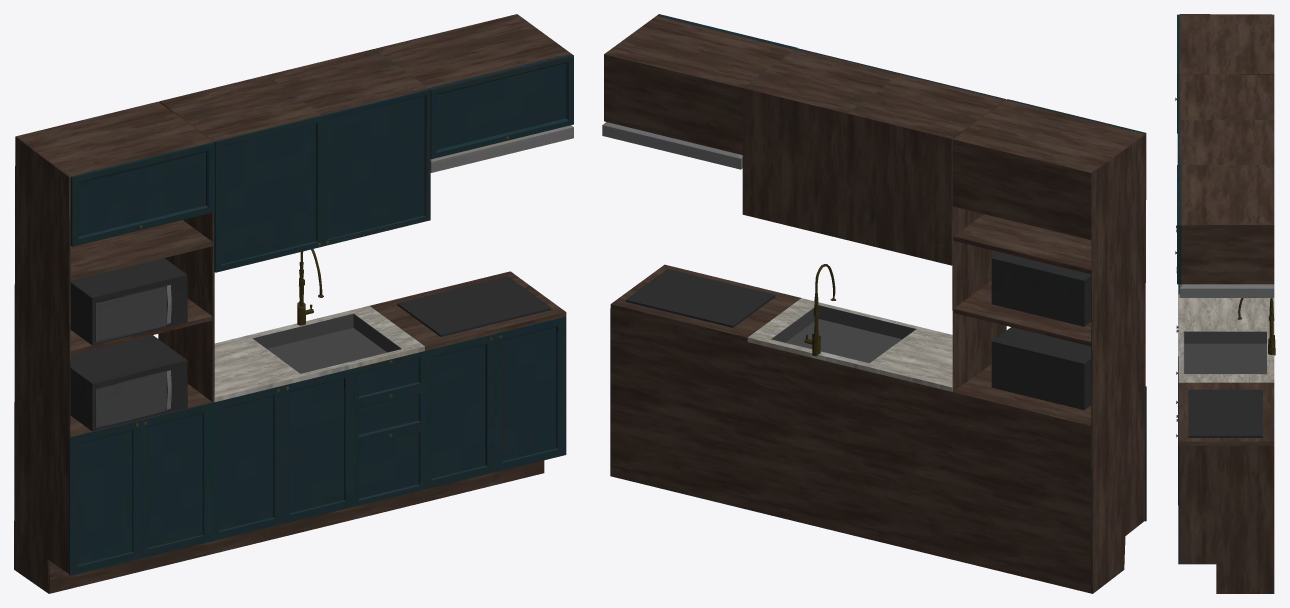
File: armario.glb
3 views of the same model, side by side, from view 1: azimuth 30°, elevation 25°; view 2: azimuth 150°, elevation 25°; view 3: azimuth 270°, elevation 25° (orthographic). The views are drawn at different scales.
Parts seen in each view (by area): view 1: armario-planejado; view 2: armario-planejado; view 3: armario-planejado.
Boxes of the visible parts, x1,y1,x2,y2 form: armario-planejado: (14, 14, 573, 593); armario-planejado: (602, 14, 1146, 593); armario-planejado: (1175, 14, 1275, 593).
Bounding box in the file's own units: 2.75 × 2.26 × 0.5528.
4 materials, 3 textured.
